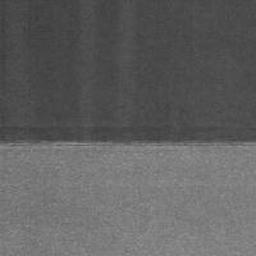Welding line: (0, 140, 256, 150)
